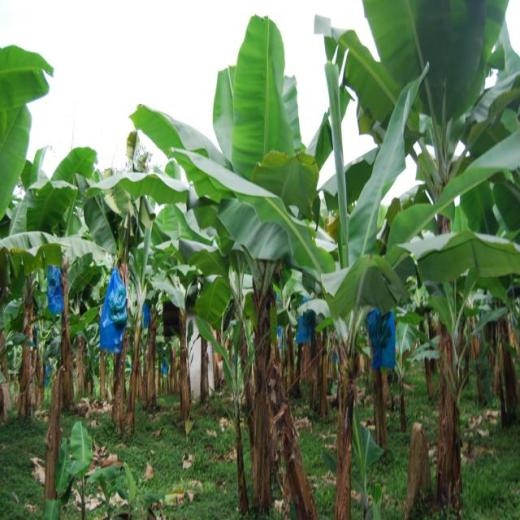Banana: (106, 284, 128, 330), (369, 310, 393, 349), (49, 266, 61, 303), (302, 307, 316, 328)
